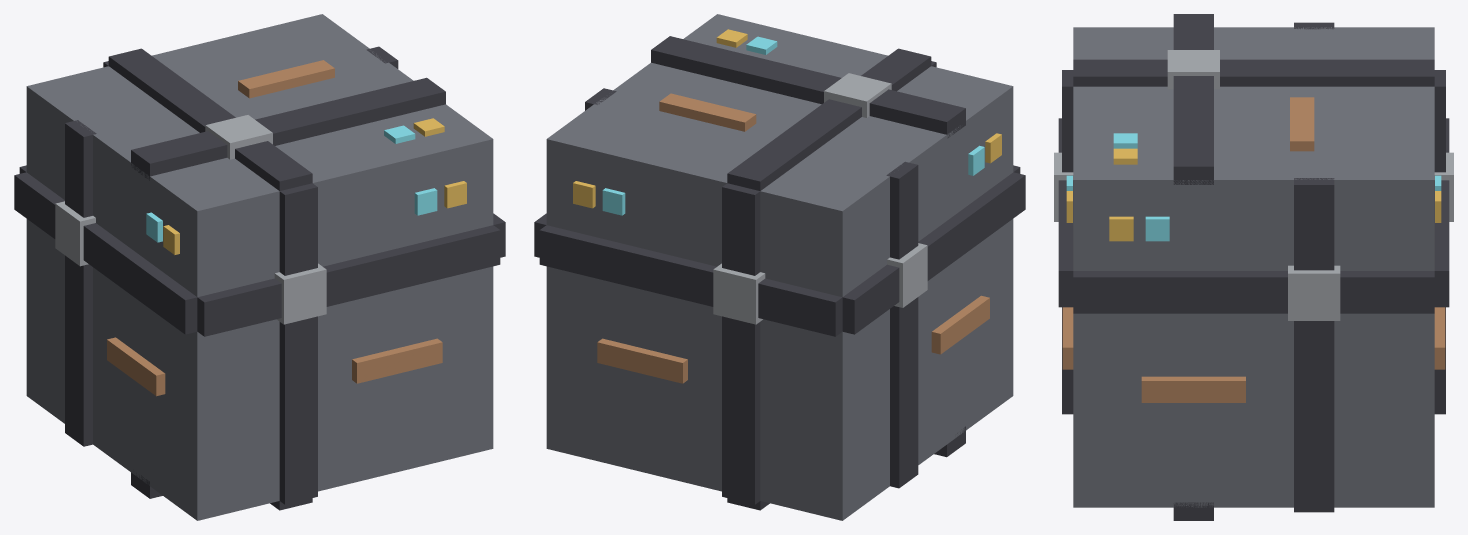
Rendered from core_wires.glb.
3 renders of one model, left to right at view 1: azimuth 30°, elevation 25°; view 2: azimuth 150°, elevation 25°; view 3: azimuth 270°, elevation 25°, orthographic. The views are drawn at different scales.
Bounding box in the file's own units: 0.996 × 0.996 × 0.996.
